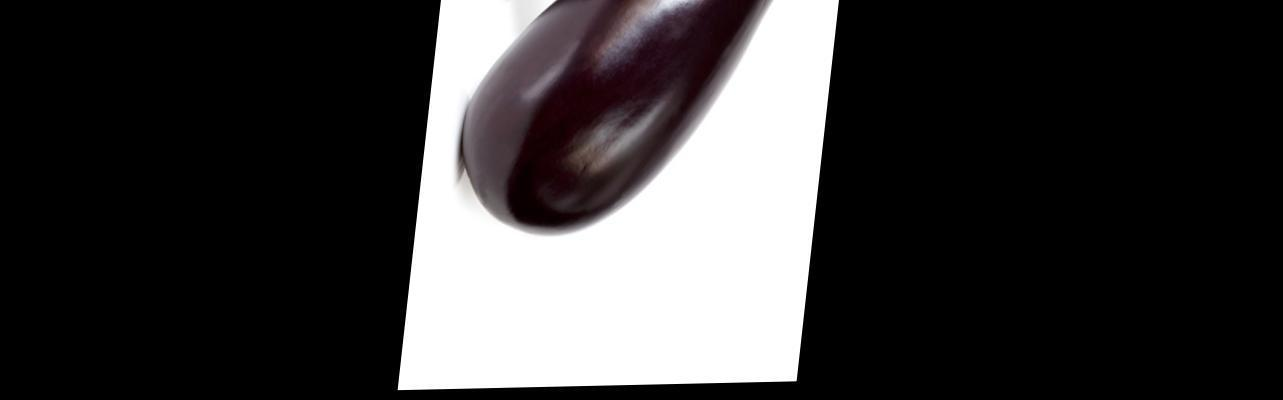eggplant: (449, 0, 817, 236)
